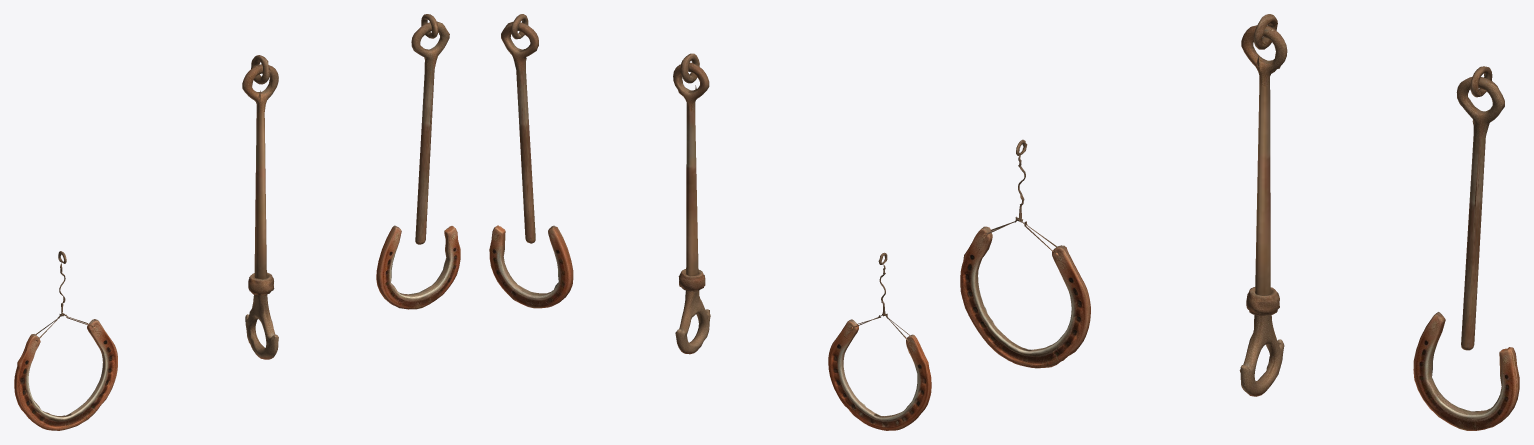
The model's file is iron_tools_horseshoe.glb.
3 views of the same model, side by side, from view 1: azimuth 30°, elevation 25°; view 2: azimuth 150°, elevation 25°; view 3: azimuth 330°, elevation 25° (orthographic). The views are drawn at different scales.
Bounding box in the file's own units: 0.9526 × 0.6709 × 0.1142.
1 material, 1 textured.
